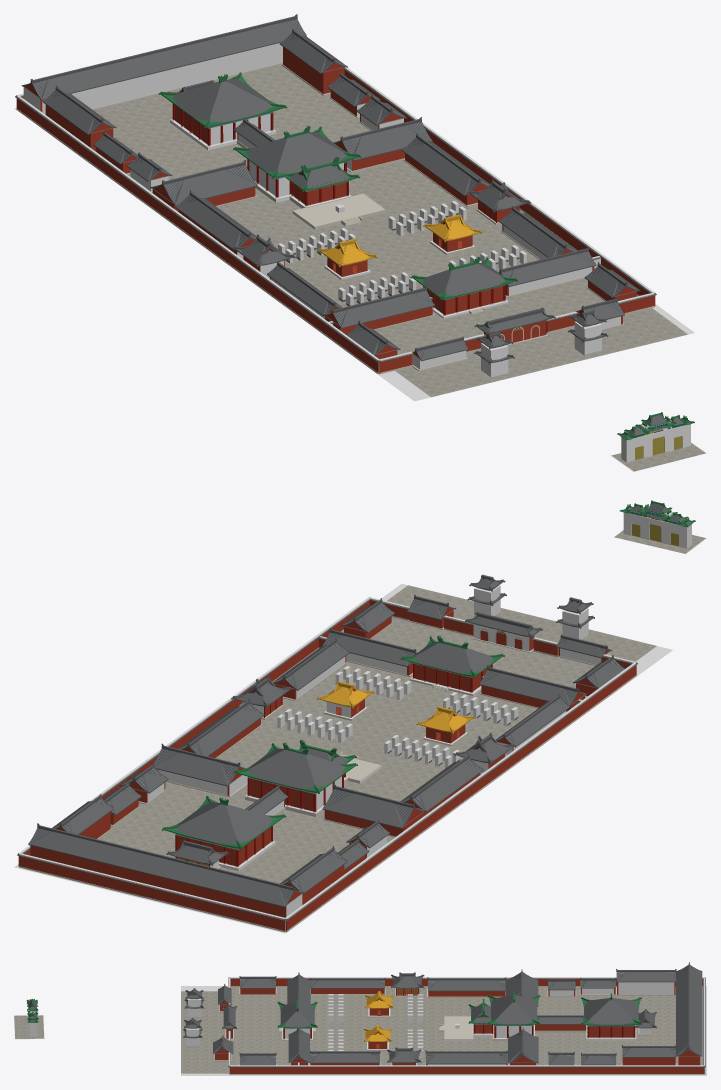
Rendered from dongyuemiao.glb.
The picture shows the model from 3 angles, top to bottom: view 1: azimuth 30°, elevation 25°; view 2: azimuth 150°, elevation 25°; view 3: azimuth 270°, elevation 25°; orthographic projection. The views are drawn at different scales.
Parts seen in each view (by area): view 1: Temple, Massing, COL_b102, FOOTPRINT_temple, COL_h8, COL_h10, COL_b19, COL_b0, COL_b1; view 2: Temple, Massing, FOOTPRINT_temple, COL_h8, COL_h10, COL_b27, COL_h9; view 3: Temple, Massing, COL_h10, FOOTPRINT_temple, COL_b103, COL_h8, COL_b93, COL_h9, COL_b1, COL_b95, COL_b0, COL_b100.
Boxes of the visible parts, x1,y1,x2,y2 form: Temple: (15,14,705,471); Massing: (23,23,682,459); COL_b102: (23,43,282,114); FOOTPRINT_temple: (14,108,694,401); COL_h8: (17,95,379,360); COL_h10: (345,67,654,293); COL_b19: (509,267,592,295); COL_b0: (481,343,508,377); COL_b1: (574,321,601,355); Temple: (17,500,705,932); Massing: (19,503,684,930); FOOTPRINT_temple: (14,583,672,933); COL_h8: (285,662,636,918); COL_h10: (19,597,369,853); COL_b27: (157,769,247,795); COL_h9: (19,853,285,931); Temple: (14,962,705,1074); Massing: (28,970,702,1065); COL_h10: (229,1065,704,1066); FOOTPRINT_temple: (181,986,706,1075); COL_b103: (618,982,674,994); COL_h8: (229,977,704,978); COL_b93: (496,1026,531,1037); COL_h9: (703,978,705,1074); COL_b1: (186,1028,199,1046); COL_b95: (586,1025,636,1040); COL_b0: (188,998,200,1016); COL_b100: (582,988,613,994).
Bounding box in the file's own units: 93.93 × 17.2 × 306.
19 materials, 7 textured.
